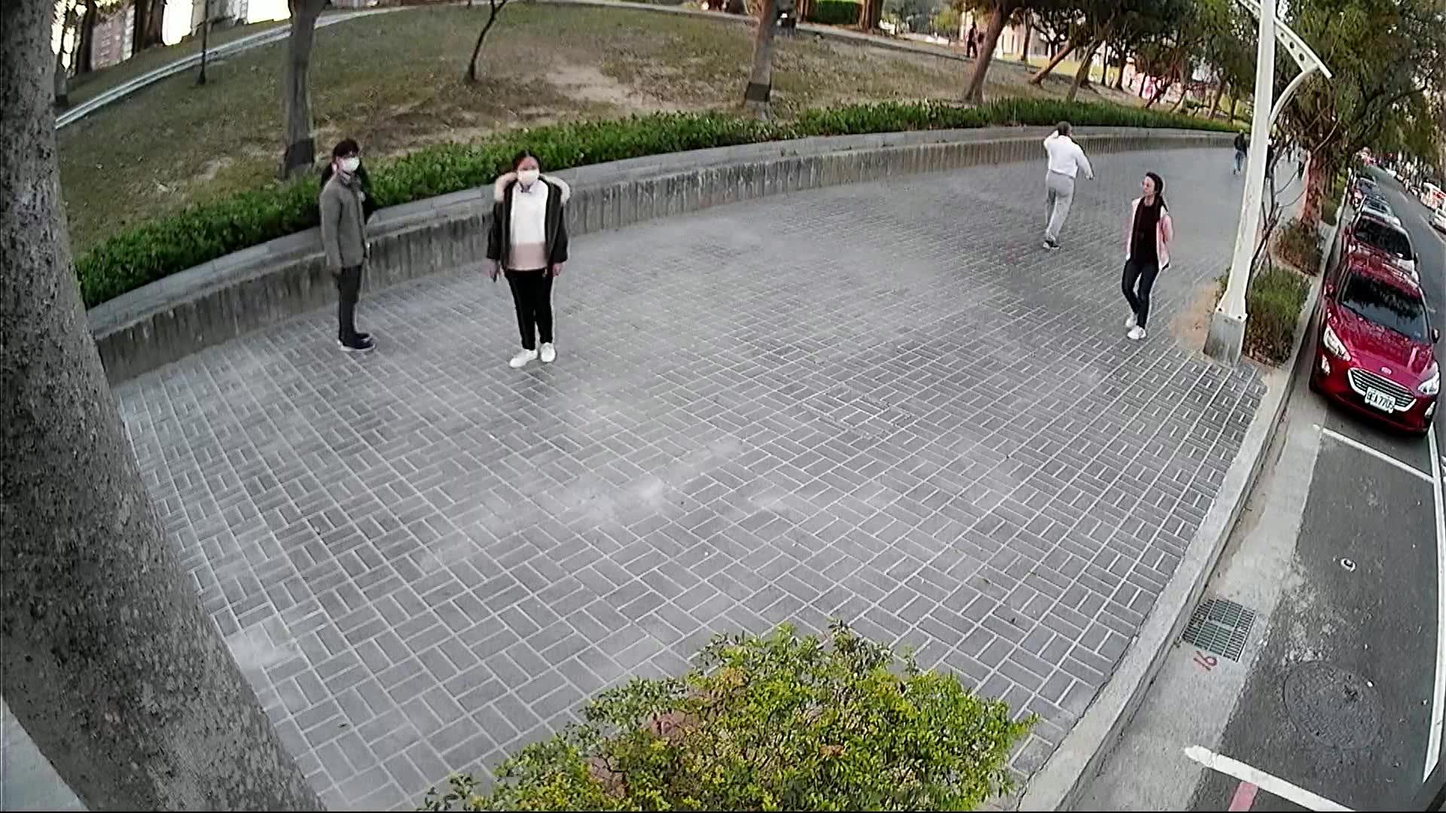person: (480, 142, 573, 370), (314, 133, 381, 353), (1115, 168, 1173, 343), (1033, 117, 1096, 253), (1228, 122, 1248, 178), (1259, 131, 1278, 187), (959, 16, 981, 60), (1292, 137, 1309, 181)
